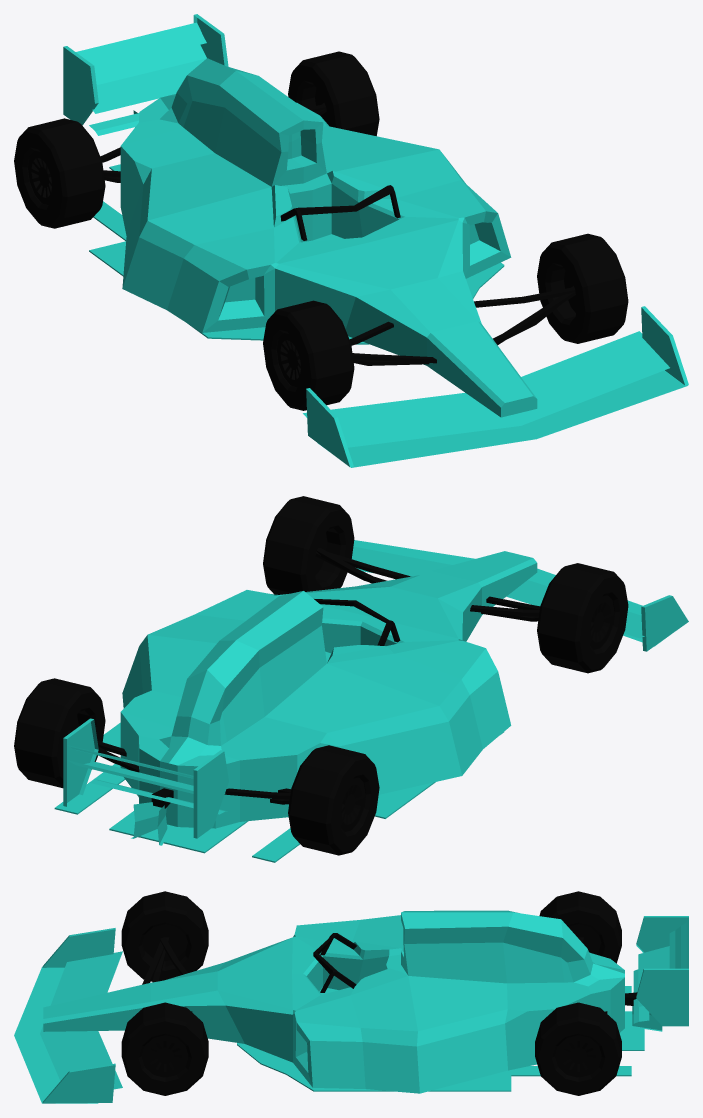
Rendered from BlueF1.fbx.
The picture shows the model from 3 angles, top to bottom: view 1: azimuth 30°, elevation 25°; view 2: azimuth 150°, elevation 25°; view 3: azimuth 270°, elevation 25°; orthographic projection. The views are drawn at different scales.
Parts seen in each view (by area): view 1: Cube, Cylinder, Cube.003, Cube.001, Plane; view 2: Cube, Cylinder, Cube.003, Cube.001, Cube.004, Plane; view 3: Cube, Cylinder, Cube.003, Cube.001, Plane.
Boxes of the visible parts, left/top/right/bottom form: Cube: left=89, top=58, right=688, bottom=467; Cylinder: left=14, top=51, right=628, bottom=410; Cube.003: left=63, top=14, right=228, bottom=135; Cube.001: left=100, top=103, right=575, bottom=365; Plane: left=280, top=185, right=400, bottom=240; Cube: left=54, top=540, right=688, bottom=862; Cylinder: left=14, top=496, right=628, bottom=855; Cube.003: left=63, top=718, right=228, bottom=838; Cube.001: left=67, top=547, right=539, bottom=804; Cube.004: left=131, top=802, right=170, bottom=845; Plane: left=314, top=599, right=400, bottom=645; Cube: left=14, top=910, right=644, bottom=1103; Cylinder: left=121, top=891, right=621, bottom=1095; Cube.003: left=633, top=916, right=688, bottom=1026; Cube.001: left=142, top=937, right=607, bottom=1013; Plane: left=313, top=933, right=356, bottom=992.
Size of the model in its own units: 1234 by 514 by 2557.
